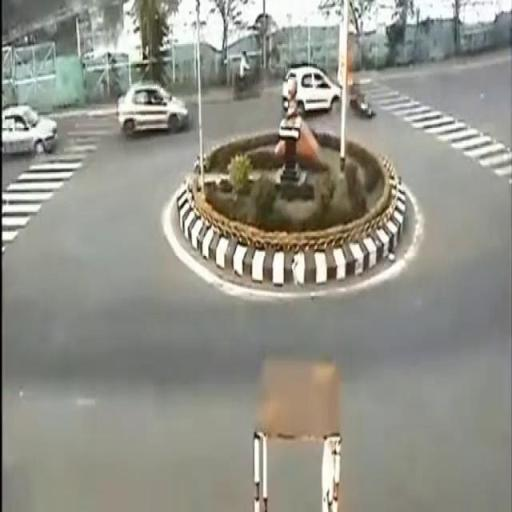小汽车: (117, 84, 192, 132), (0, 101, 58, 157)
小汽车撞自行车: (285, 68, 373, 122)
自行车: (232, 51, 260, 101)
